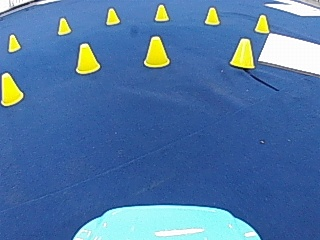cone: (142, 34, 170, 67), (74, 41, 100, 73), (229, 37, 255, 68), (0, 71, 23, 105), (253, 13, 269, 33), (204, 6, 220, 25), (105, 6, 120, 25), (154, 3, 169, 22), (56, 16, 71, 34), (7, 33, 21, 52)
